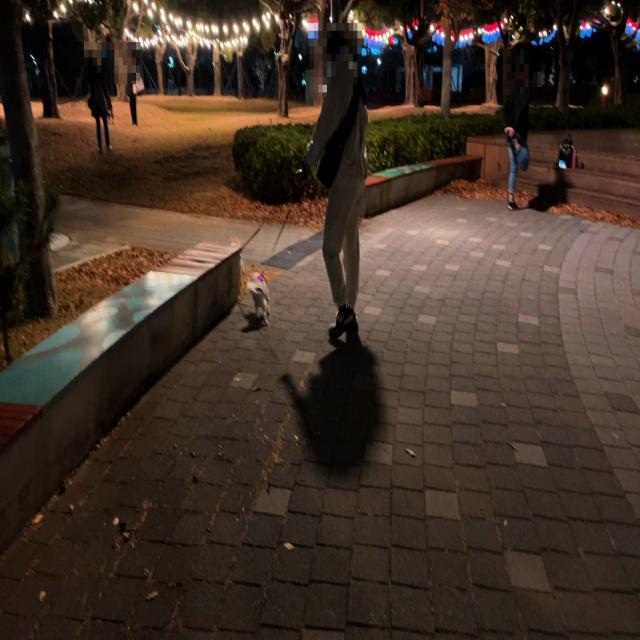Leashed_Dog: (228, 137, 361, 326)
